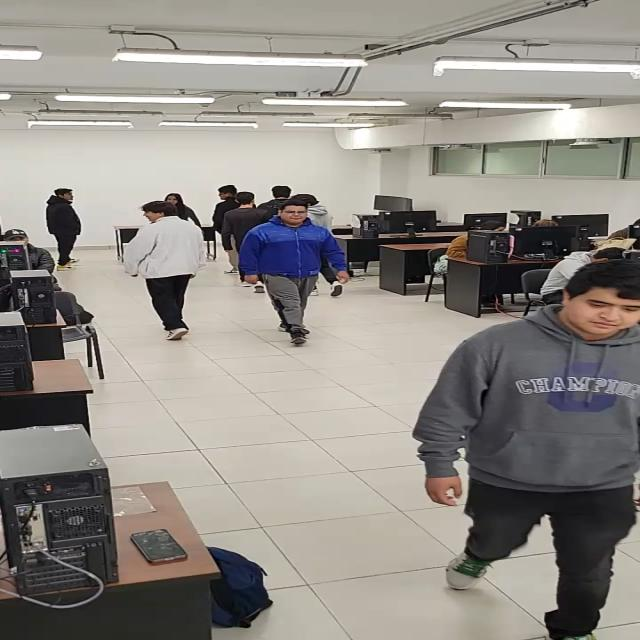Persona: (410, 256, 640, 639), (239, 200, 354, 347), (126, 200, 206, 342), (43, 186, 88, 272), (217, 191, 273, 259)
